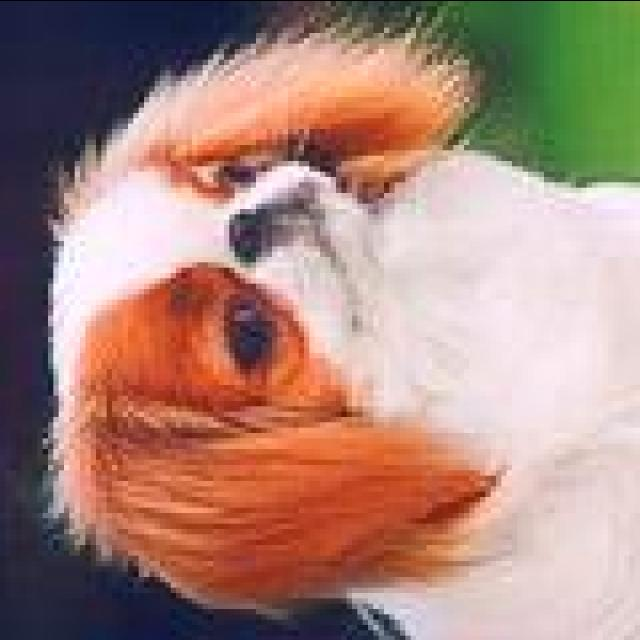husky: (1, 6, 634, 640)
